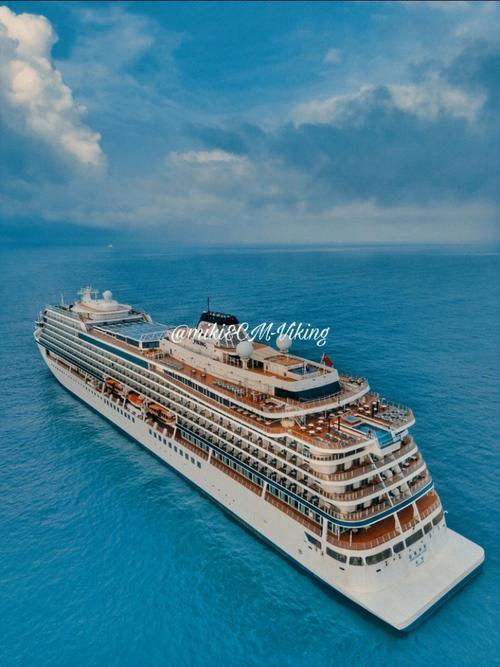Ship: (39, 267, 486, 634)
